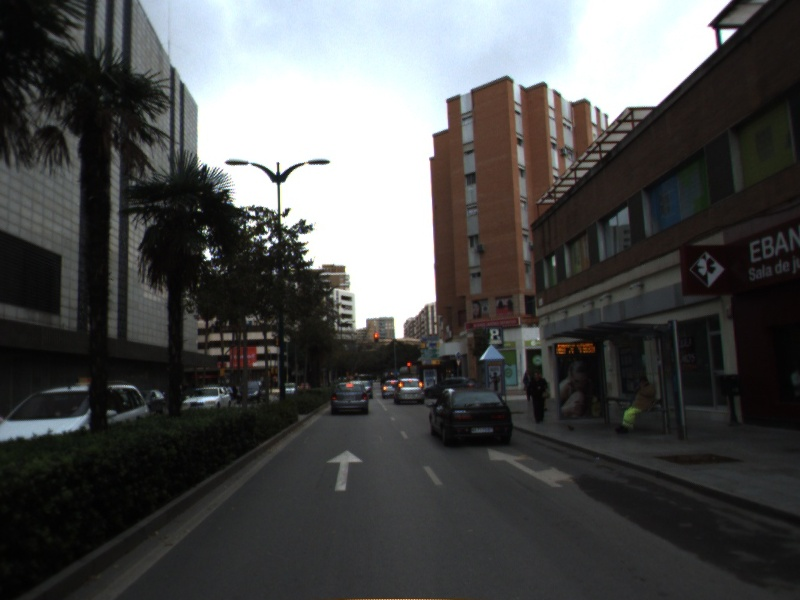STRAIGHT: (324, 448, 366, 492)
STRAIGHT_RIGHT: (485, 447, 577, 489)
